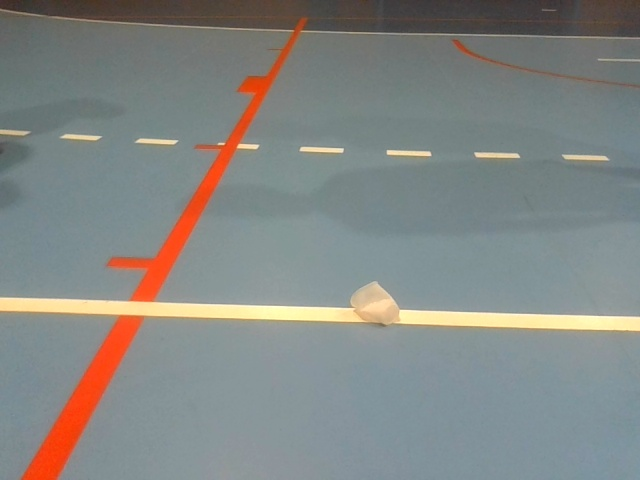plasticcup: (349, 281, 400, 327)
